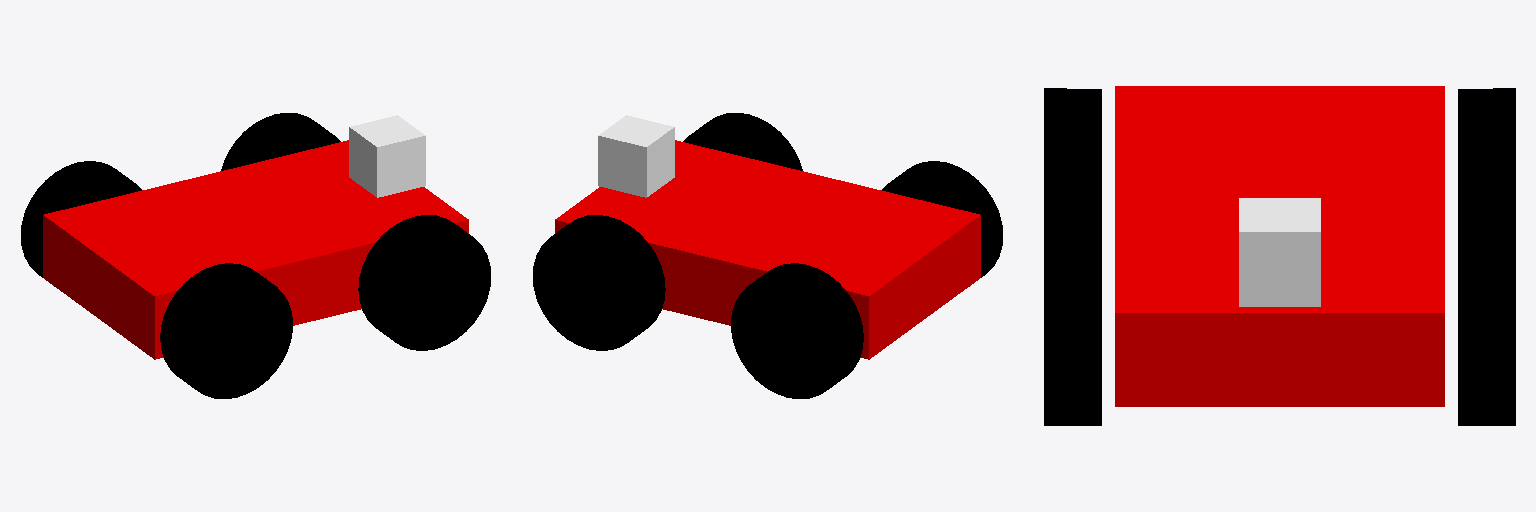
robot.urdf — avular_origin_v10:
<?xml version='1.0'?>

<robot name="avular_origin_v10">

  <material name="main_body_color">
    <color rgba="1 0 0 1"/>  <!-- RED -->
  </material>
  <link name='main_body'>
    <inertial>
      <mass value="21.0"/>
      <inertia ixx="0.4" ixy="0.0" ixz="0.0" iyy="0.77" iyz="0.0" izz="1.01"/>
    </inertial>
    <collision name='collision'>
      <origin xyz="0 0 0.07" rpy="0 0 0.0"/>
      <geometry>
        <box size=".65 .4 .125"/>
      </geometry>
    </collision>
    <visual name='visual'>
      <origin xyz="0 0 0.07" rpy="0 0 0.0"/>
      <geometry>
        <box size=".65 .4 .125"/>
      </geometry>
      <material name="main_body_color" />
    </visual>
  </link>

  <material name="wheel_color">
    <color rgba="0 0 0 1"/>  <!-- Black -->
  </material>
  <link name="left_front_wheel">
    <inertial>
      <mass value="1"/>
      <inertia ixx="0.01" ixy="0.0" ixz="0.0" iyy="0.01" iyz="0.0" izz="0.01"/>
    </inertial>
    <collision>
      <origin xyz="0 0 0.0" rpy="0 0 0"/>
      <geometry>
        <cylinder length=".07" radius=".1175"/>
      </geometry>
    </collision>
    <visual>
      <origin xyz="0.0 0.0 0.0" rpy="0.0 0.0 0.0"/>
      <geometry>
        <cylinder length=".07" radius=".1175"/>
      </geometry>
      <material name="wheel_color"/>
    </visual>
  </link>

  <link name="right_front_wheel">
    <inertial>
      <mass value="1"/>
      <inertia ixx="0.01" ixy="0.0" ixz="0.0" iyy="0.01" iyz="0.0" izz="0.01"/>
    </inertial>
    <collision>
      <origin xyz="0 0 0.0" rpy="0 0 0"/>
      <geometry>
        <cylinder length=".07" radius=".1175"/>
      </geometry>
    </collision>
    <visual>
      <origin xyz="0.0 0.0 0.0" rpy="0.0 0.0 0.0"/>
      <geometry>
        <cylinder length=".07" radius=".1175"/>
      </geometry>
      <material name="wheel_color"/>
    </visual>
  </link>

  <link name="left_rear_wheel">
    <inertial>
      <mass value="1"/>
      <inertia ixx="0.01" ixy="0.0" ixz="0.0" iyy="0.01" iyz="0.0" izz="0.01"/>
    </inertial>
    <collision>
      <origin xyz="0 0 0.0" rpy="0 0 0"/>
      <geometry>
        <cylinder length=".07" radius=".1175"/>
      </geometry>
    </collision>
    <visual>
      <origin xyz="0.0 0.0 0.0" rpy="0.0 0.0 0.0"/>
      <geometry>
        <cylinder length=".07" radius=".1175"/>
      </geometry>
      <material name="wheel_color"/>
    </visual>
  </link>

  <link name="right_rear_wheel">
    <inertial>
      <mass value="1"/>
      <inertia ixx="0.01" ixy="0.0" ixz="0.0" iyy="0.01" iyz="0.0" izz="0.01"/>
    </inertial>
    <collision>
      <origin xyz="0 0 0.0" rpy="0 0 0"/>
      <geometry>
        <cylinder length=".07" radius=".1175"/>
      </geometry>
    </collision>
    <visual>
      <origin xyz="0.0 0.0 0.0" rpy="0.0 0.0 0.0"/>
      <geometry>
        <cylinder length=".07" radius=".1175"/>
      </geometry>
      <material name="wheel_color"/>
    </visual>
  </link>

  <material name="ouster_base_color">
    <color rgba="1 1 1 1"/>  <!-- White -->
  </material>
  <link name="ouster_base">
    <inertial>
      <mass value="1"/>
      <inertia ixx="0.001" ixy="0.0" ixz="0.0" iyy="0.001" iyz="0.0" izz="0.001"/>
    </inertial>
    <visual name="visual">
      <geometry>
        <box size="0.1 0.1 0.1"/>
      </geometry>
      <material name="ouster_base_color"/>
    </visual>
    <collision name="collision-base">
      <origin xyz="0.0 0.0 0.0" rpy="0.0 0.0 0.0"/>
      <geometry>
        <box size="0.1 0.1 0.1"/>
      </geometry>
    </collision>
  </link>


  <link name="lidar_link_gazebo">
    <inertial>
      <mass value="0.1"/>
      <inertia ixx="0.001" ixy="0.0" ixz="0.0" iyy="0.001" iyz="0.0" izz="0.001"/>
    </inertial>
    <collision name="collision-base">
      <origin xyz="0 0 0.0" rpy="0 0 0"/>
      <geometry>
        <cylinder length="0.07" radius="0.04"/>
      </geometry>
    </collision>
  </link>


  <link name="camera_link">
    <inertial>
      <mass value="0.035"/>
      <inertia ixx="0.001" ixy="0" ixz="0.0" iyy="0.001" iyz="0.0" izz="0.001"/>
    </inertial>
    <collision name="collision">
      <origin xyz="0 0.047 0" rpy="0 0 0"/>
      <geometry>
        <box size="0.008 0.13 0.022"/>
      </geometry>
    </collision>
  </link>

  <joint type="continuous" name="main_body_left_front_wheel">
    <origin xyz="0.205 0.25 0.056" rpy="-1.5707 0 0"/>
    <child link="left_front_wheel" />
    <parent link="main_body"/>
    <axis xyz="0 0 1"/>
    <limit effort="100000.0" velocity="10"/>
  </joint>

  <joint type="continuous" name="main_body_right_front_wheel">
    <origin xyz="0.205 -0.25 0.056" rpy="1.5707 0 0"/>
    <child link="right_front_wheel" />
    <parent link="main_body"/>
    <axis xyz="0 0 -1"/>
    <limit effort="100000.0" velocity="10"/>
  </joint>

  <joint type="continuous" name="main_body_left_rear_wheel">
    <origin xyz="-0.205 0.25 0.056" rpy="-1.5707 0 0"/>
    <child link="left_rear_wheel" />
    <parent link="main_body"/>
    <axis xyz="0 0 1"/>
    <limit effort="100000.0" velocity="10"/>
  </joint>

  <joint type="continuous" name="main_body_right_rear_wheel">
    <origin xyz="-0.205 -0.25 0.056" rpy="1.5707 0 0"/>
    <child link="right_rear_wheel" />
    <parent link="main_body"/>
    <axis xyz="0 0 -1"/>
    <limit effort="100000.0" velocity="10"/>
  </joint>

  <joint type="fixed" name="ouster_platform_joint">
    <origin xyz="0.272 0 0.189" rpy="0 0 0"/>
    <child link="ouster_base" />
    <parent link="main_body"/>
  </joint>

  <joint type="fixed" name="lidar_joint_gazebo">
    <origin xyz="0 0 0.035" rpy="0 0 0"/>
    <child link="lidar_link_gazebo" />
    <parent link="ouster_base"/>
  </joint>

  <joint type="fixed" name="realsense_joint">
    <origin xyz="0.32 0.03 0.1" rpy="0 0 0"/>
    <child link="camera_link"/>
    <parent link="main_body"/>
  </joint>


</robot>

--- Render facts (derived) ---
The picture shows the robot from 3 angles, left to right: view 1: azimuth 30°, elevation 25°; view 2: azimuth 150°, elevation 25°; view 3: azimuth 270°, elevation 25°; orthographic projection.
Model avular_origin_v10 with 8 links and 7 joints (4 continuous, 3 fixed), rooted at main_body, posed every joint at zero.
Visible links, largest first — view 1: main_body, right_rear_wheel, right_front_wheel, ouster_base, left_rear_wheel, left_front_wheel; view 2: main_body, left_rear_wheel, left_front_wheel, ouster_base, right_rear_wheel, right_front_wheel; view 3: main_body, left_front_wheel, right_front_wheel, ouster_base, left_rear_wheel, right_rear_wheel.
Boxes of the visible links, x1,y1,x2,y2 form: main_body: (43, 140, 468, 359); right_rear_wheel: (160, 263, 292, 398); right_front_wheel: (358, 215, 490, 350); ouster_base: (349, 115, 425, 197); left_rear_wheel: (21, 161, 141, 286); left_front_wheel: (221, 113, 340, 170); main_body: (555, 140, 980, 359); left_rear_wheel: (731, 263, 863, 398); left_front_wheel: (533, 215, 665, 350); ouster_base: (598, 115, 674, 197); right_rear_wheel: (882, 161, 1002, 286); right_front_wheel: (683, 113, 802, 170); main_body: (1115, 86, 1444, 406); left_front_wheel: (1458, 232, 1515, 425); right_front_wheel: (1044, 232, 1101, 425); ouster_base: (1239, 198, 1320, 306); left_rear_wheel: (1458, 88, 1515, 231); right_rear_wheel: (1044, 88, 1101, 231).
Size in the robot's own frame: 0.65 by 0.57 by 0.3005 metres.
Geometry: primitives only (box / cylinder / sphere), no mesh files.